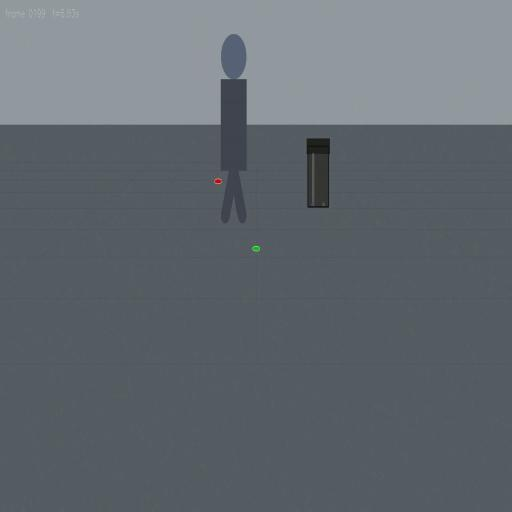bin: (306, 138, 330, 208)
